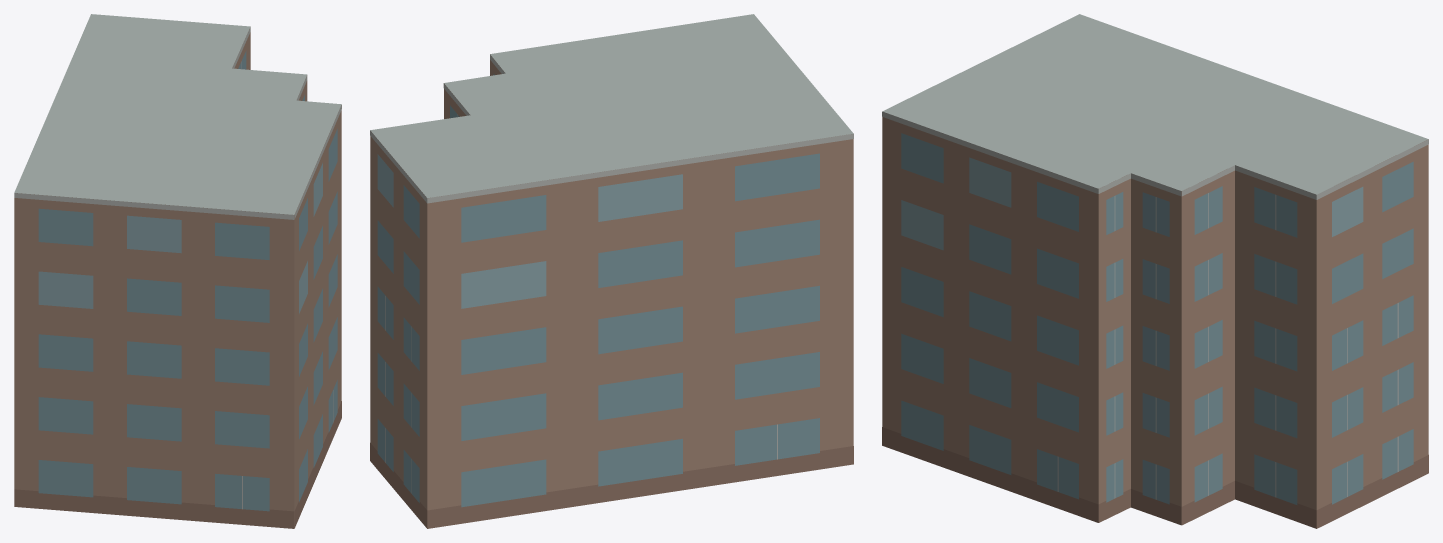
File: survey-upis-32847847.glb
3 views of the same model, side by side, from view 1: azimuth 30°, elevation 25°; view 2: azimuth 150°, elevation 25°; view 3: azimuth 270°, elevation 25° (orthographic). The views are drawn at different scales.
Parts seen in each view (by area): view 1: survey-upis-32847847.tmp; view 2: survey-upis-32847847.tmp; view 3: survey-upis-32847847.tmp.
Boxes of the visible parts, box(x1,y1,x2,y2) form: survey-upis-32847847.tmp: box(14, 14, 341, 528); survey-upis-32847847.tmp: box(370, 14, 853, 528); survey-upis-32847847.tmp: box(882, 14, 1428, 528).
Size of the model in its own units: 17.69 by 15.25 by 22.61.
